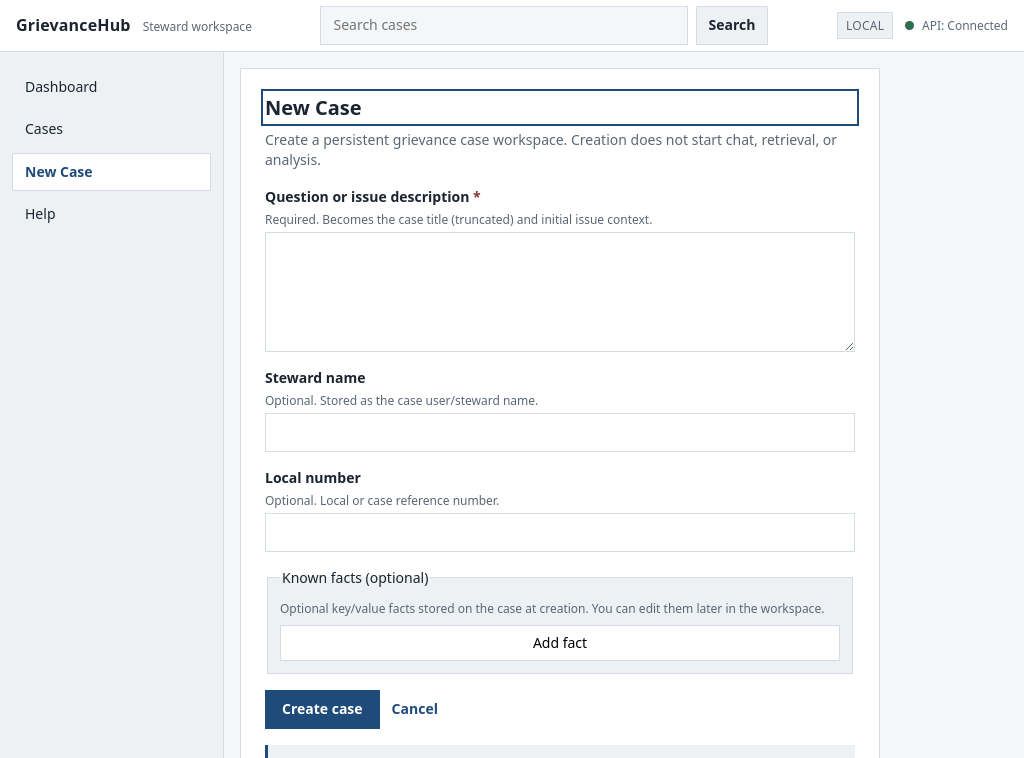
Test: W6 M2 Create Case and Workspace Restoration › blocks invalid create submission with required validation
Click the button "Create case" at (322, 709), box top-left (265, 690), bottom-right (380, 729)
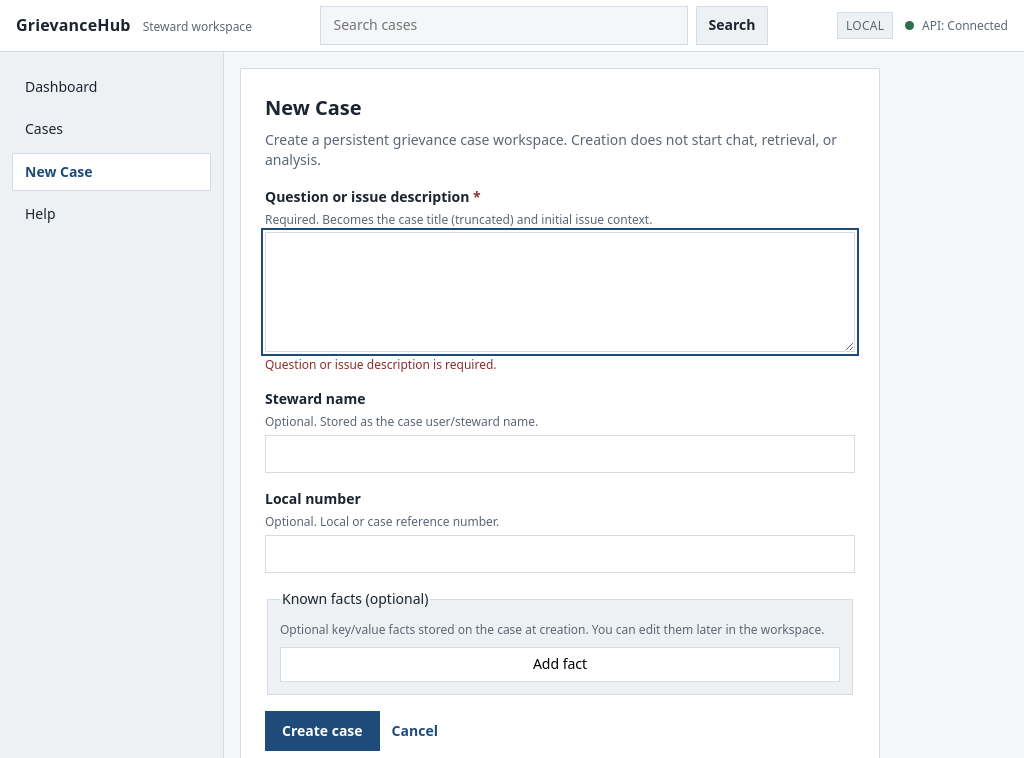
Result: the text "Question or issue description is required." is shown at top-left (265, 356), bottom-right (496, 373)
